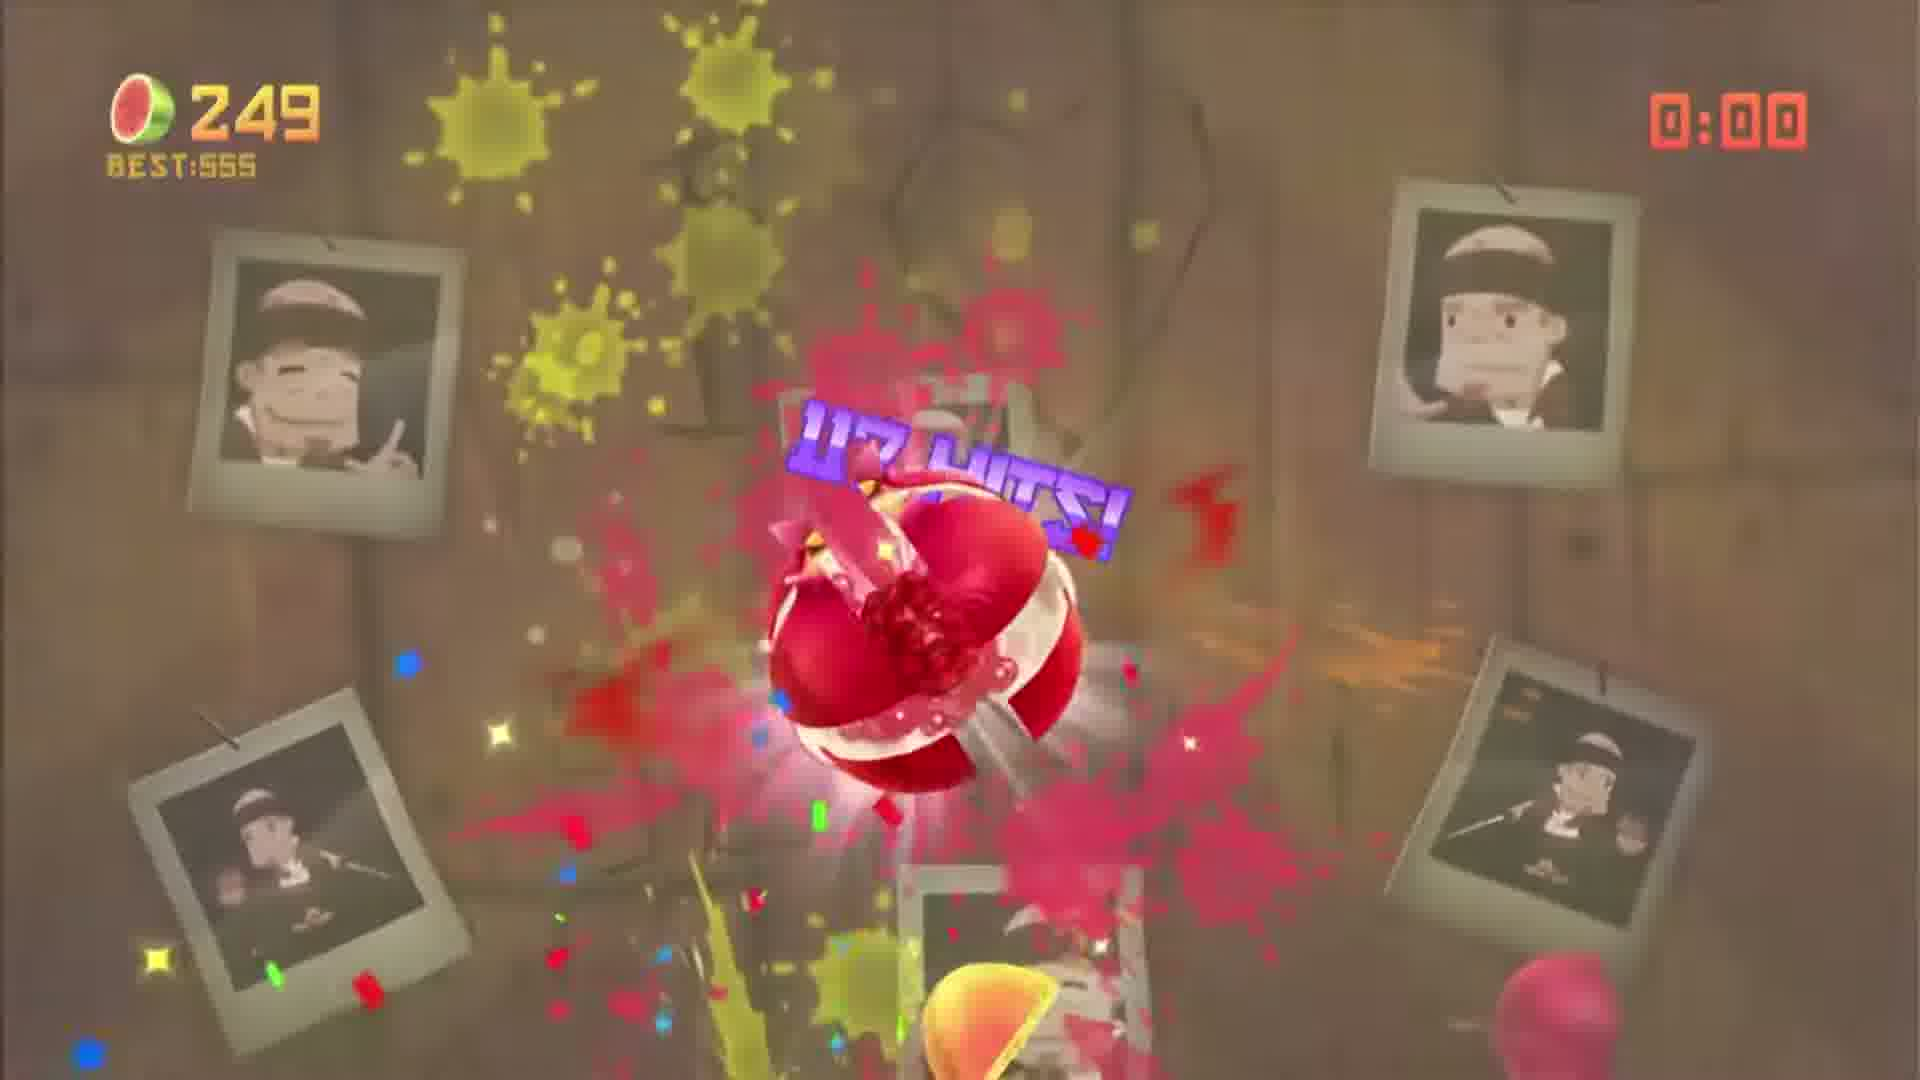fruit: (777, 393, 1156, 853), (1611, 956, 1788, 1080)
